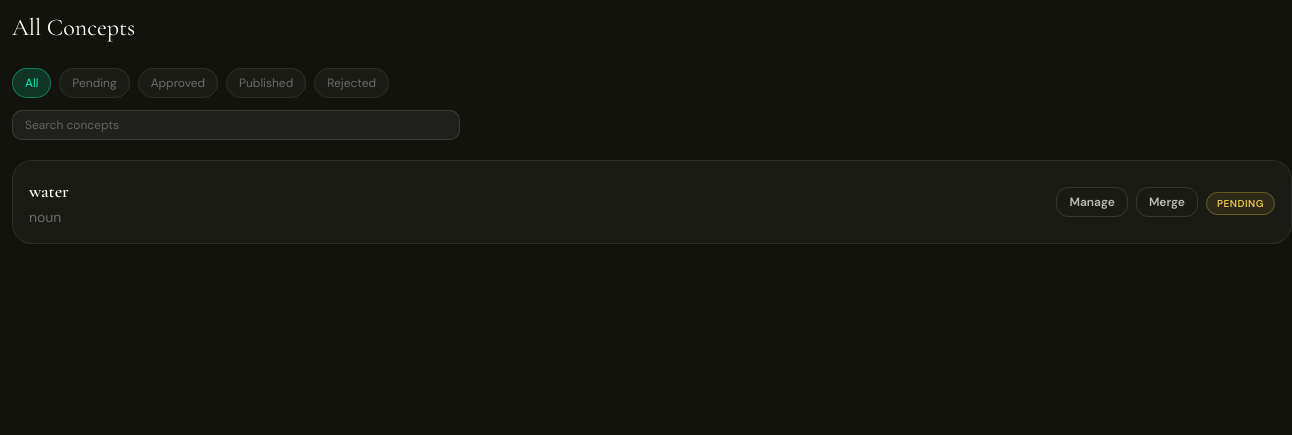
Test case: Expanding published concepts › admin can expand a pending concept to edit it and its variants still in review, without reject buttons
This screenshot has width=1292, height=435.
Click the text "water": click(49, 191) [29,177,69,205]
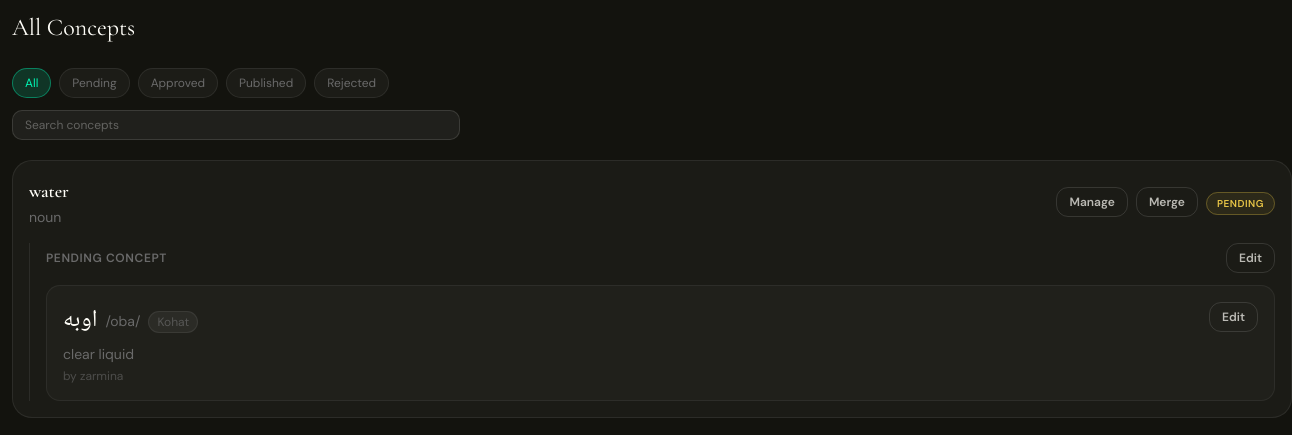
Expected: the text "اوبه" is shown, [63,302,97,340]
Expected: the button with aria-label "edit concept" is shown, [1226,243,1275,273]
Expected: the button with aria-label "edit variant" is shown, [1209,302,1258,332]
